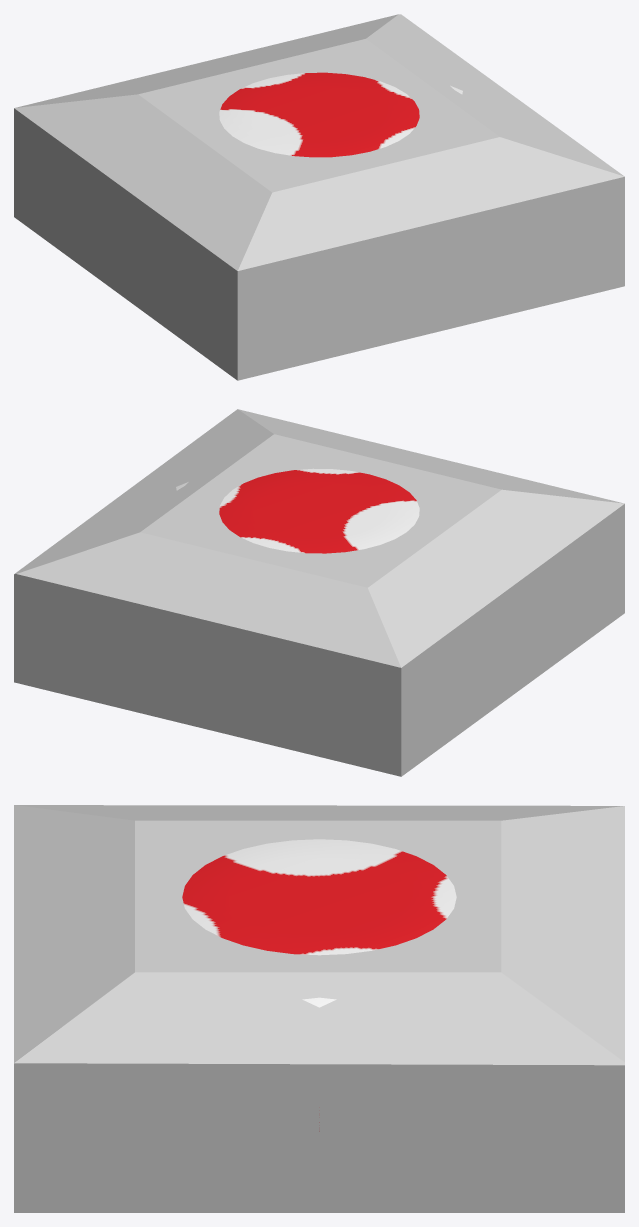
Rendered from boundGround.gltf.
3 renders of one model, top to bottom at view 1: azimuth 30°, elevation 25°; view 2: azimuth 150°, elevation 25°; view 3: azimuth 270°, elevation 25°, orthographic. The views are drawn at different scales.
Parts seen in each view (by area): view 1: COL, 円柱; view 2: COL, 円柱; view 3: COL, 円柱.
Boxes of the visible parts, x1,y1,x2,y2 form: COL: [14, 14, 624, 380]; 円柱: [219, 72, 462, 157]; COL: [14, 409, 624, 776]; 円柱: [176, 468, 419, 553]; COL: [14, 805, 624, 1212]; 円柱: [182, 839, 456, 1131].
Bounding box in the file's own units: 5 × 1.69 × 5.
Materials: 1 (1 with a texture image).
